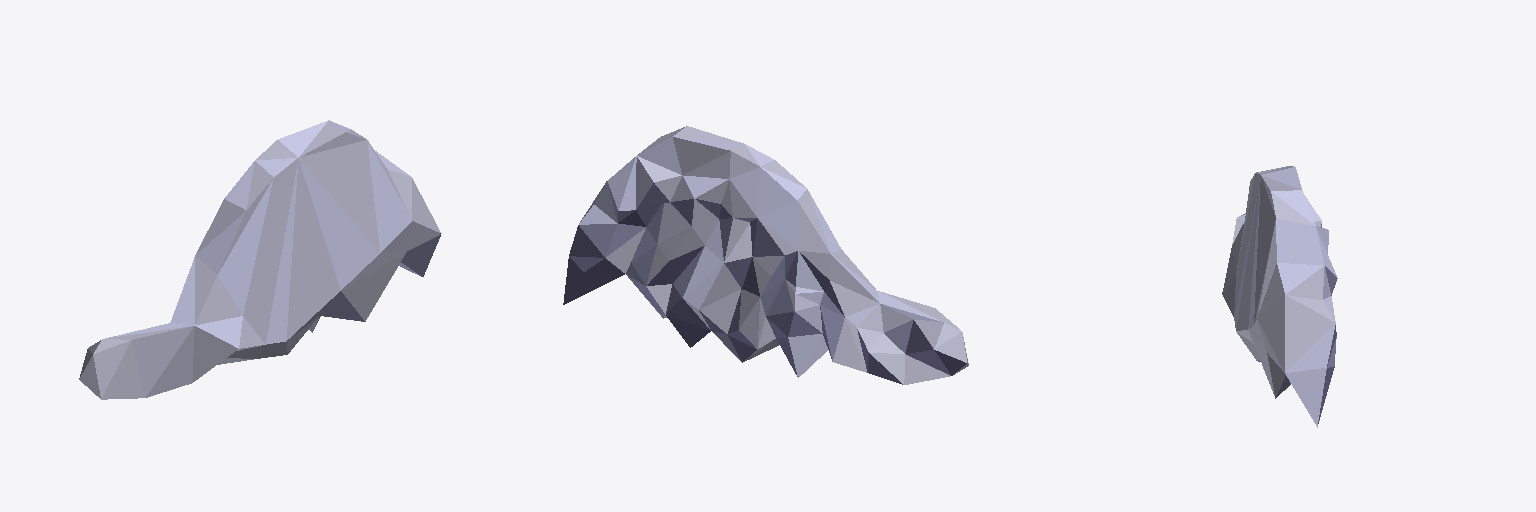
The picture shows the model from 3 angles: view 1: azimuth 30°, elevation 25°; view 2: azimuth 150°, elevation 25°; view 3: azimuth 270°, elevation 25°; orthographic projection.
Parts seen in each view (by area): view 1: Cube; view 2: Cube; view 3: Cube.
Boxes of the visible parts, <box> form: Cube: <box>79,120,441,399</box>; Cube: <box>563,126,968,384</box>; Cube: <box>1222,166,1337,427</box>.
Size of the model in its own units: 8.02 by 4.36 by 2.13.
1 materials, 1 textured.